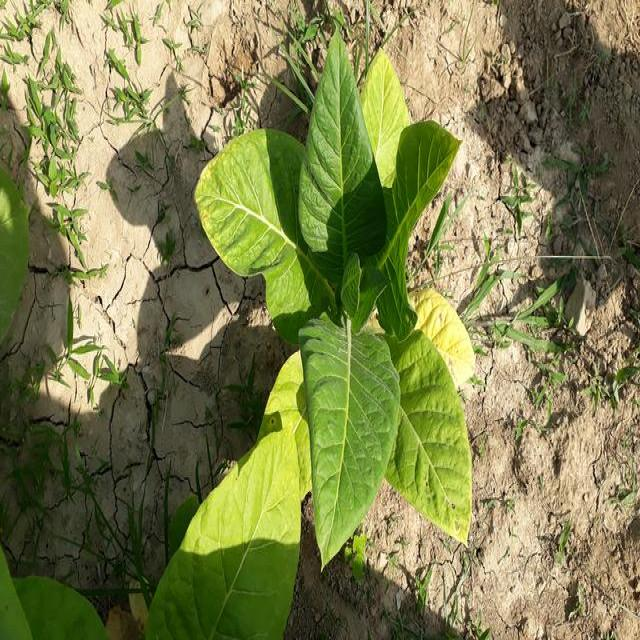crop: (210, 36, 472, 557), (152, 431, 300, 640), (2, 551, 102, 640), (0, 171, 29, 361)
